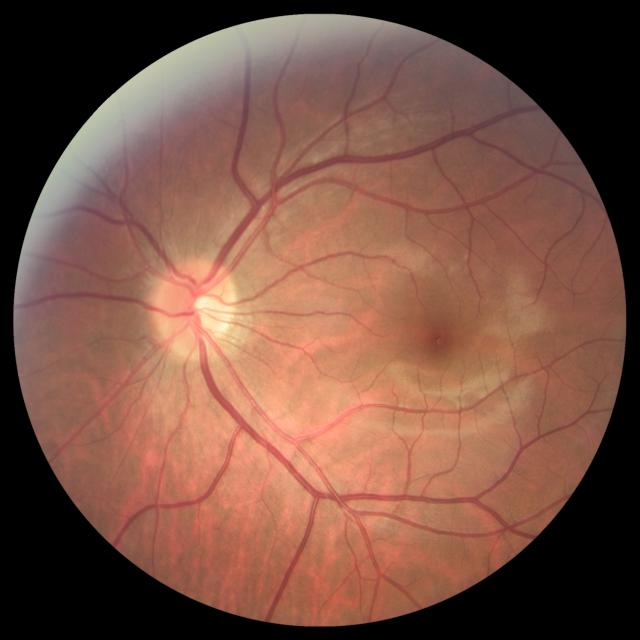OC: (189, 287, 222, 334)
OD: (153, 257, 237, 357)
